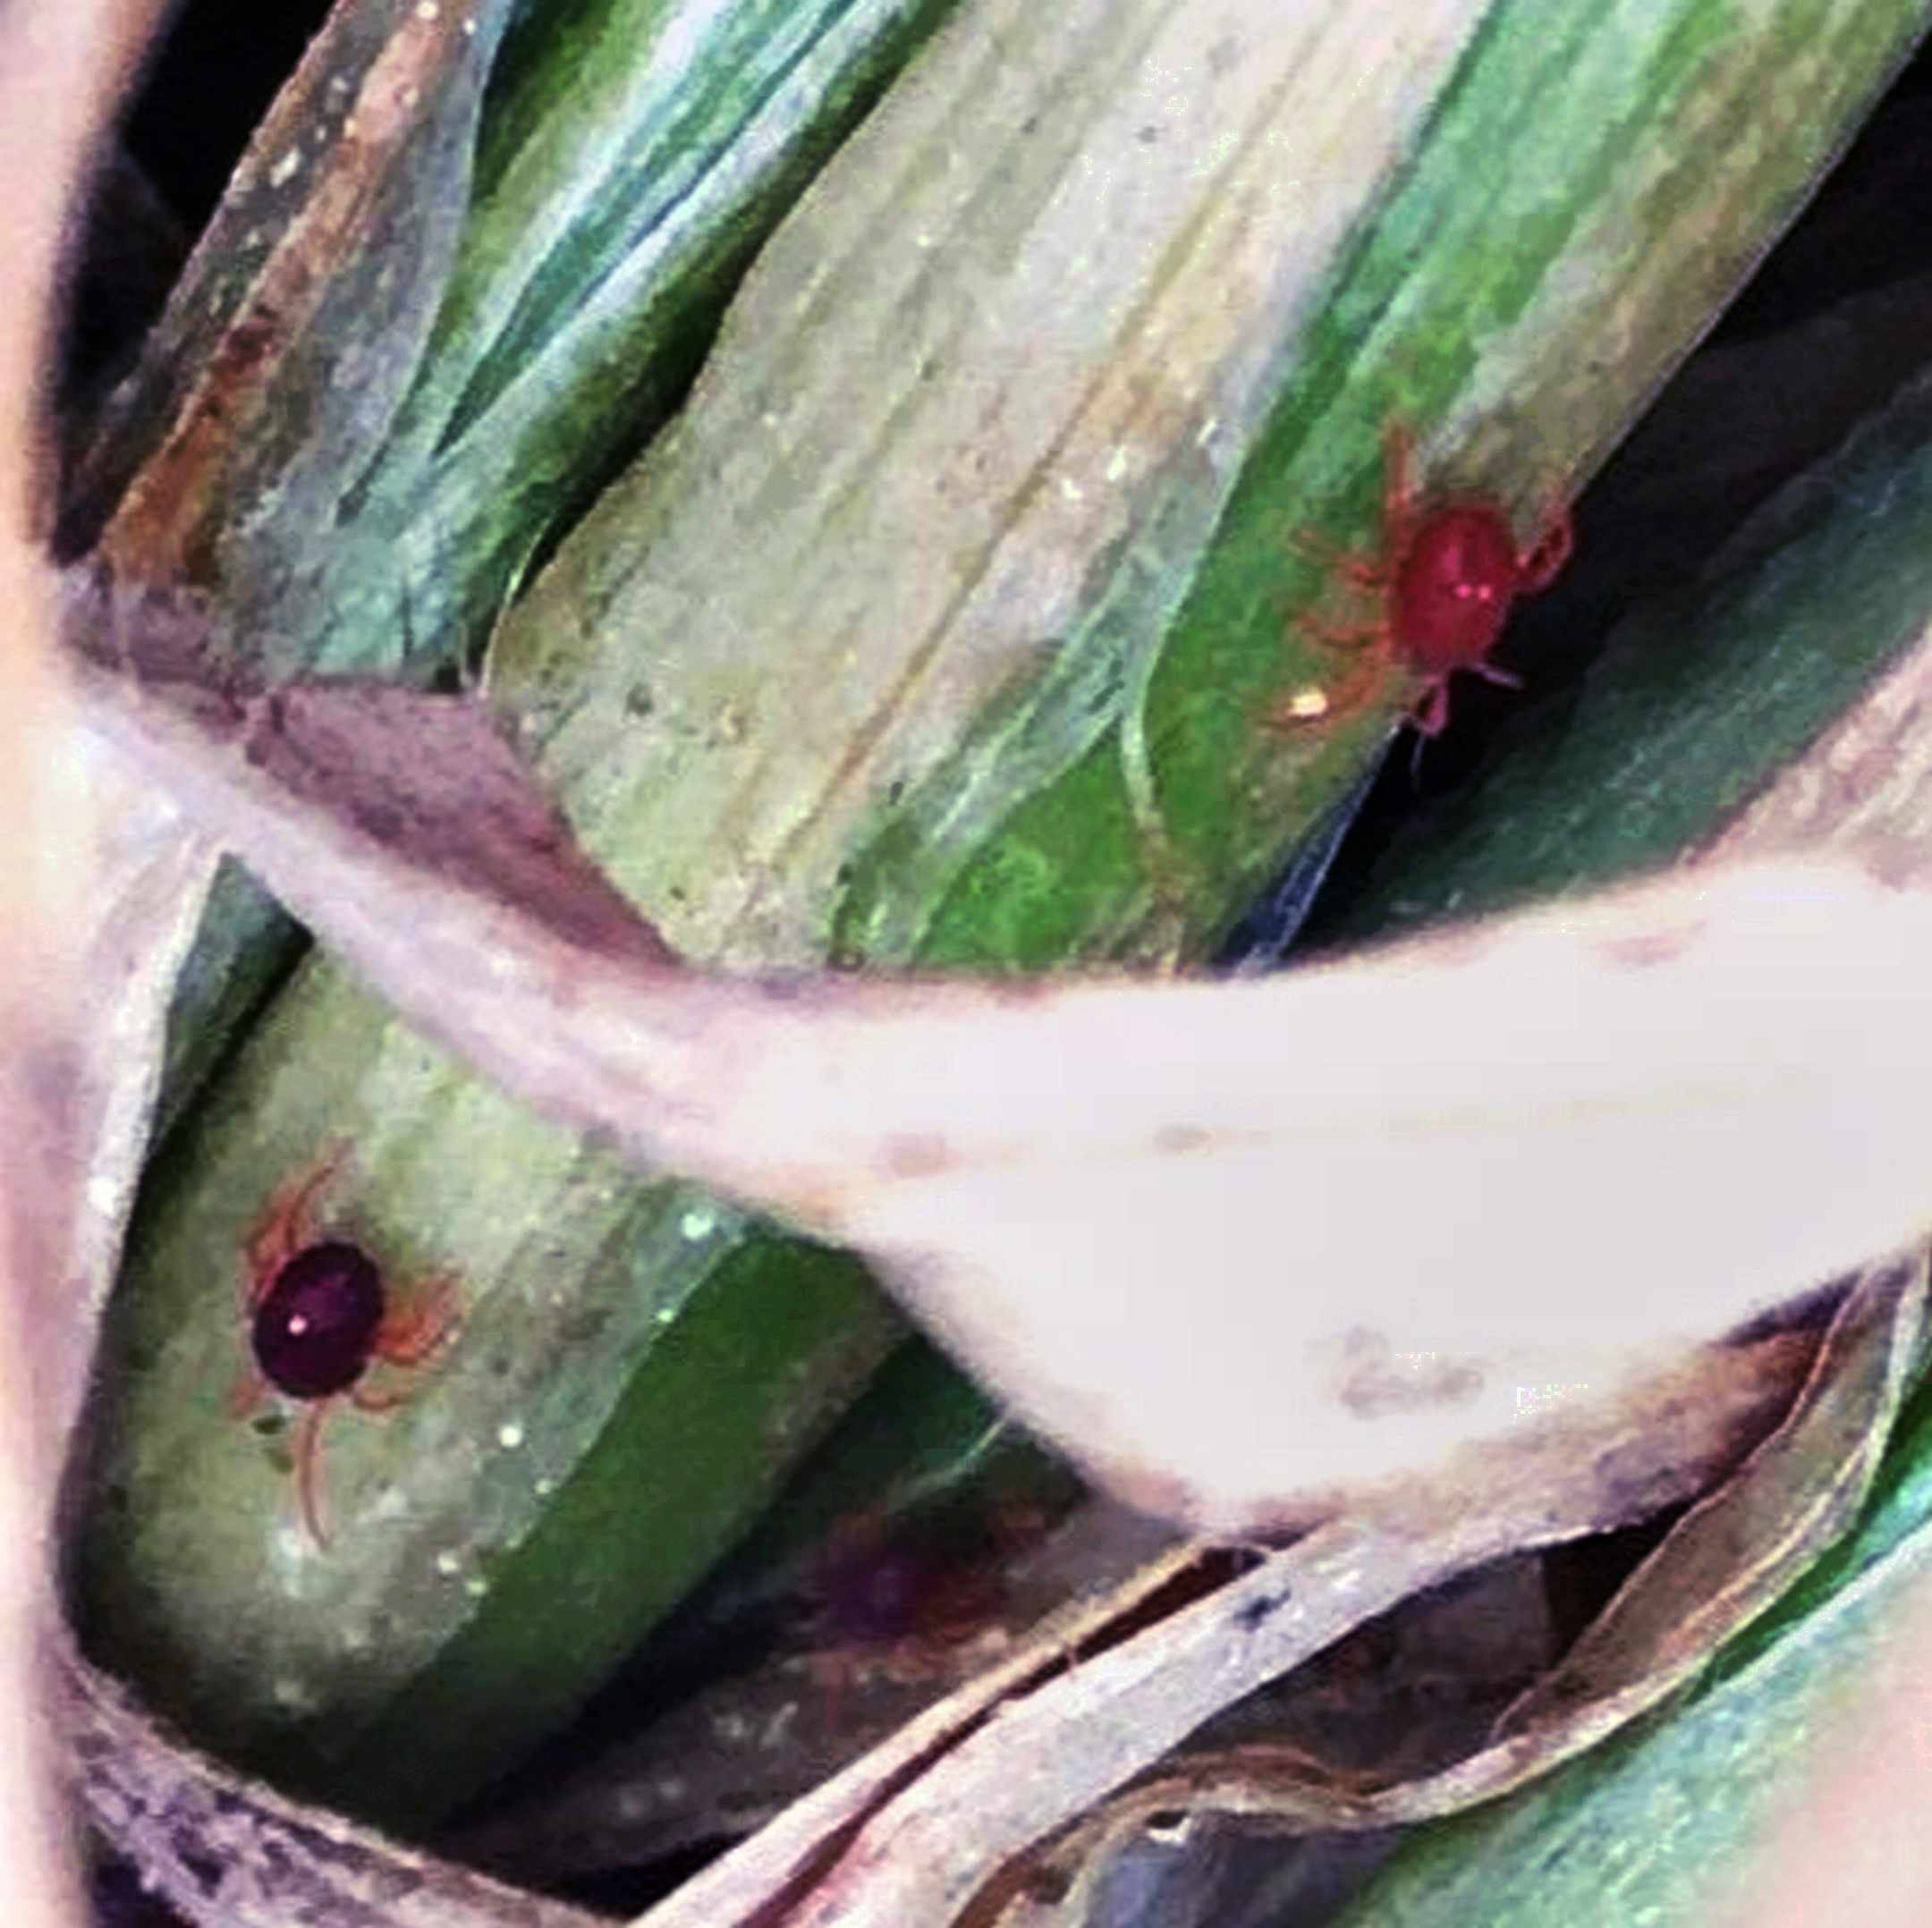Wheat Red Spider: (1231, 408, 1612, 791)
